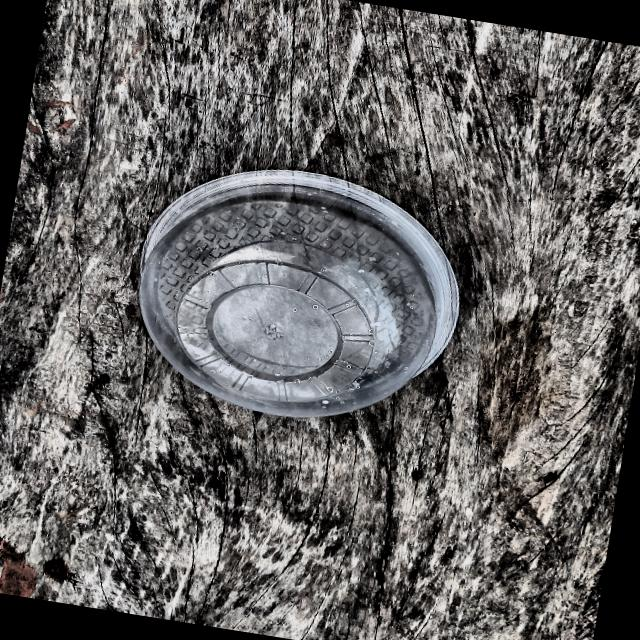plastic container: (103, 132, 490, 449)
